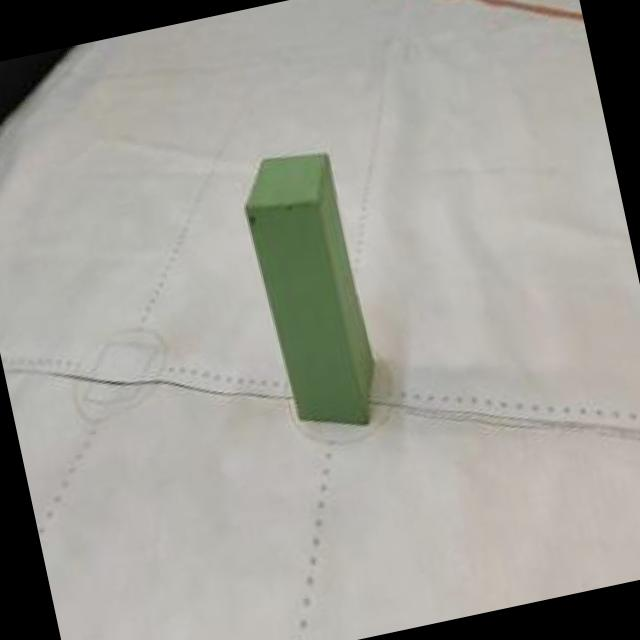greenbox: (234, 140, 395, 439)
